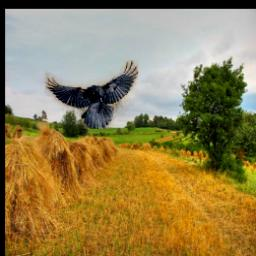Crow: (45, 61, 138, 130)
